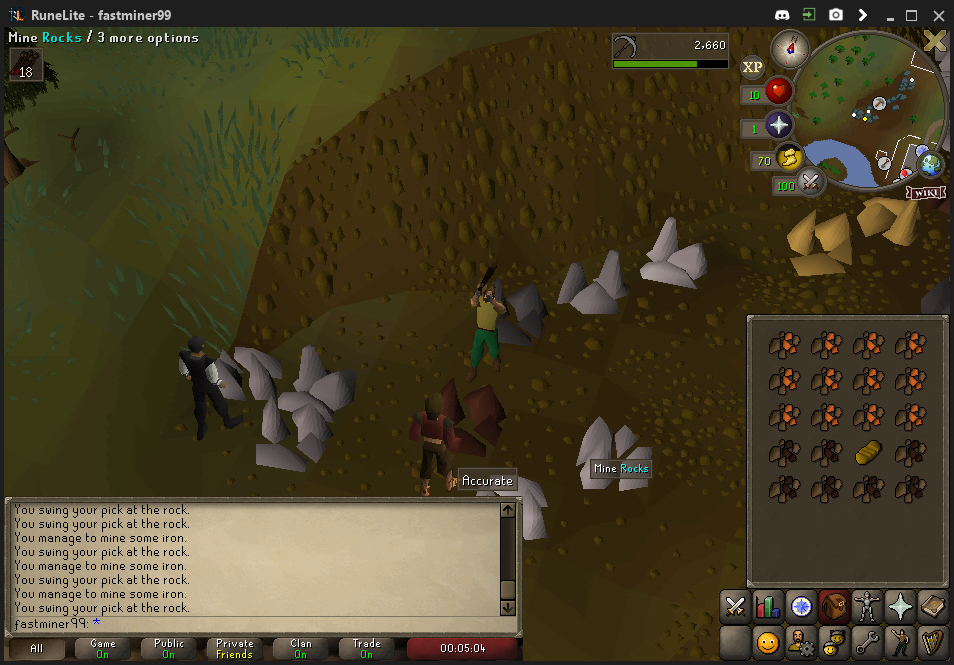depleted: (478, 279, 554, 344)
ore: (416, 370, 512, 459)
